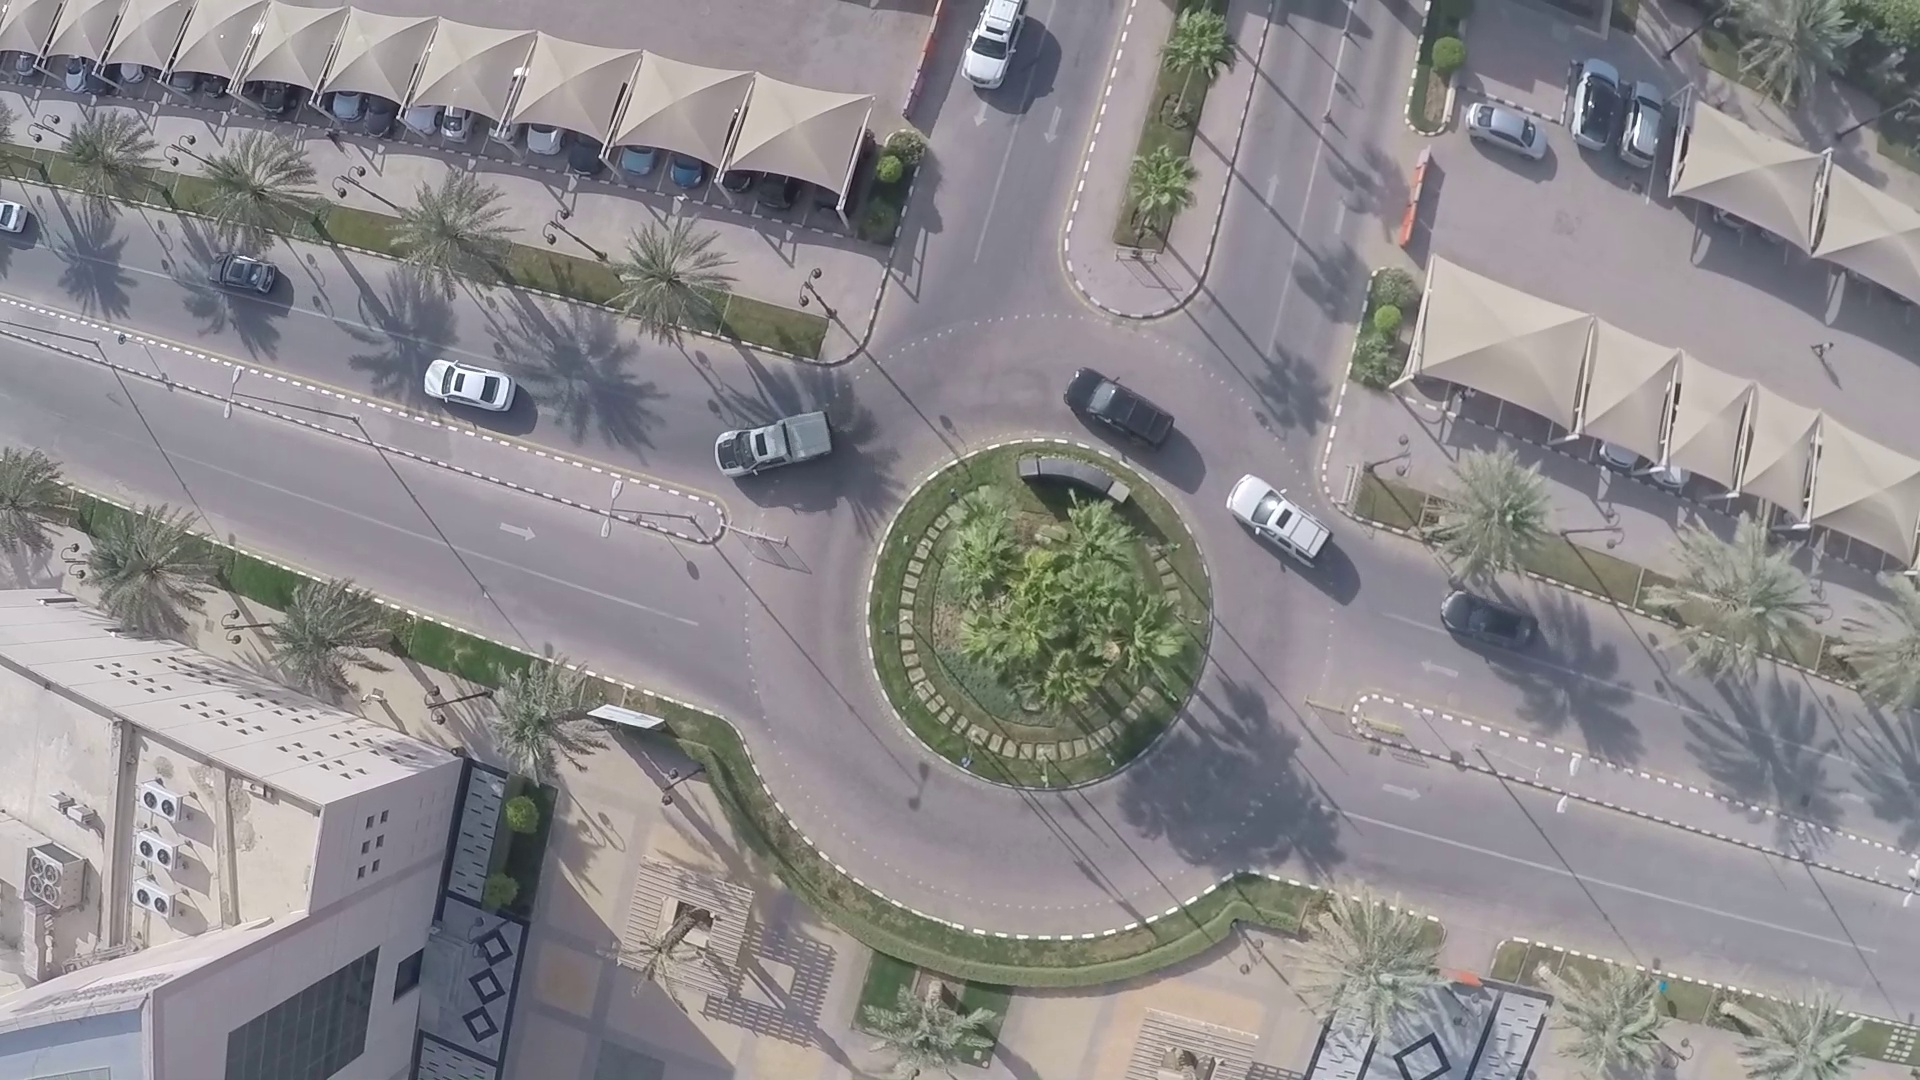car: (1400, 560, 1528, 655), (678, 411, 851, 477), (1058, 364, 1174, 455), (1216, 456, 1312, 564), (406, 359, 539, 415), (957, 1, 1011, 94), (204, 252, 301, 299)
